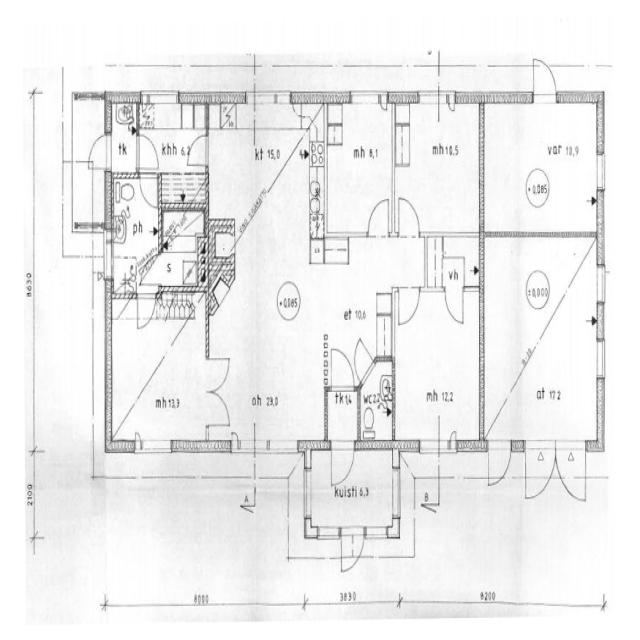door: (206, 351, 232, 432), (524, 442, 556, 500), (556, 446, 587, 505), (484, 436, 514, 488), (530, 56, 559, 106), (328, 344, 356, 394), (329, 439, 356, 489), (337, 527, 366, 572), (365, 194, 391, 239), (396, 192, 421, 238), (396, 284, 421, 328), (135, 131, 160, 172), (186, 129, 210, 170), (87, 131, 111, 170), (135, 289, 157, 331), (287, 455, 307, 500), (443, 286, 465, 326), (138, 170, 160, 210), (354, 338, 372, 377)
window: (136, 434, 175, 458), (593, 333, 608, 384), (252, 87, 292, 105), (594, 147, 608, 195), (594, 261, 608, 307), (349, 88, 381, 105), (147, 89, 181, 105), (416, 88, 444, 105), (364, 524, 388, 539)
zone: (481, 234, 602, 443), (207, 254, 326, 443), (207, 100, 323, 255), (482, 100, 600, 237), (108, 292, 208, 448), (394, 289, 482, 447), (395, 100, 481, 236), (325, 98, 393, 239), (109, 170, 160, 297), (138, 98, 207, 173), (158, 208, 204, 288), (359, 359, 395, 445), (424, 235, 479, 288), (108, 100, 138, 175), (326, 385, 360, 444), (158, 169, 208, 208)
